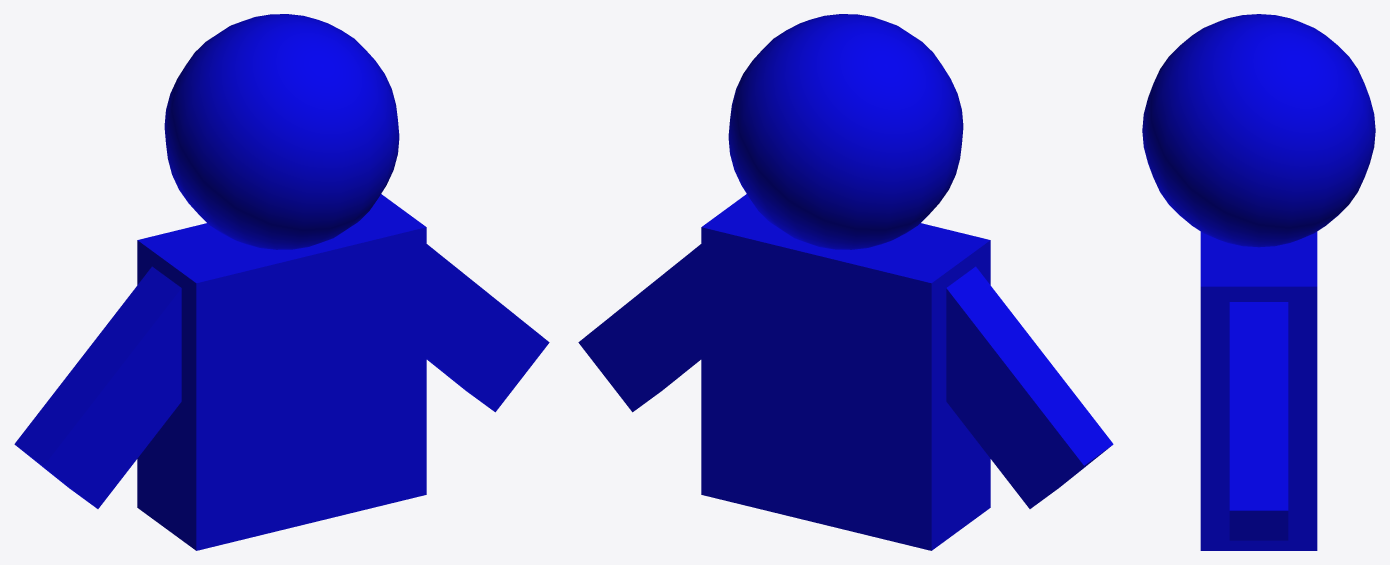
Rendered from Player.fbx.
3 views of the same model, side by side, from view 1: azimuth 30°, elevation 25°; view 2: azimuth 150°, elevation 25°; view 3: azimuth 270°, elevation 25° (orthographic).
Visible parts, largest first — view 1: pCube4; view 2: pCube4; view 3: pCube4.
Boxes of the visible parts, x1,y1,x2,y2 form: pCube4: [14, 14, 549, 550]; pCube4: [578, 14, 1113, 550]; pCube4: [1142, 14, 1375, 550].
Size of the model in its own units: 4.94 by 4.45 by 2.
